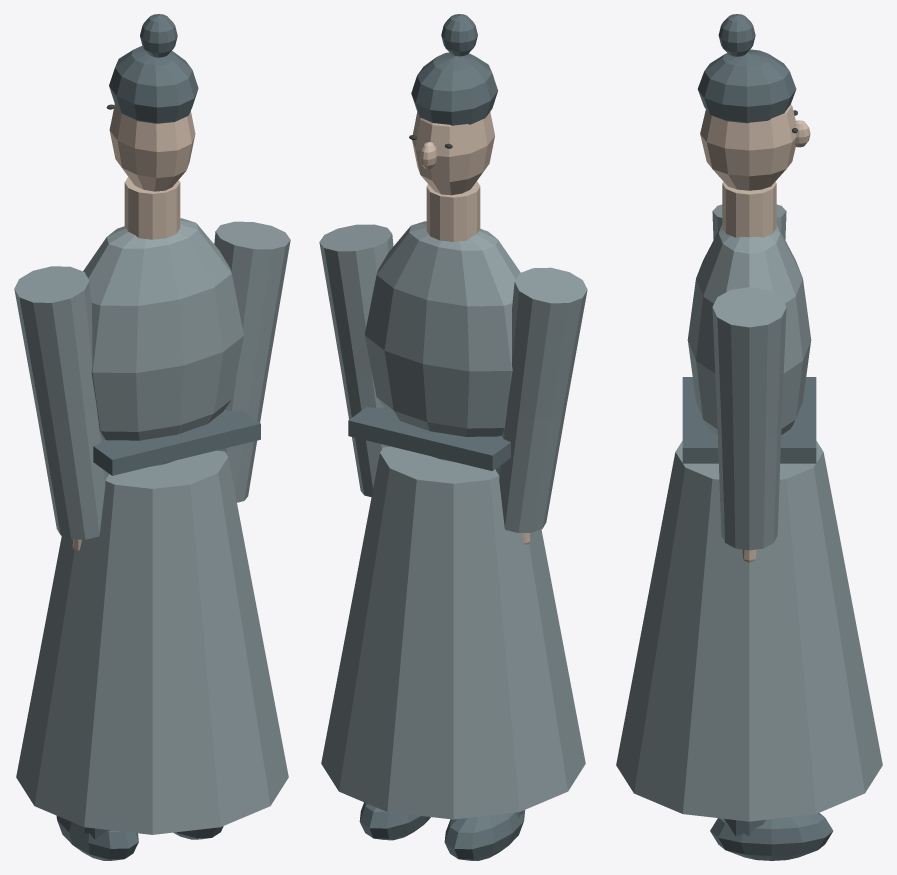
The model's file is CH-XJR.glb.
3 views of the same model, side by side, from view 1: azimuth 30°, elevation 25°; view 2: azimuth 150°, elevation 25°; view 3: azimuth 270°, elevation 25° (orthographic). The views are drawn at different scales.
Visible parts, largest first — view 1: robe_skirt, torso, upper_arm_L, upper_arm_R, sleeve_L, hair, head, belt, neck, sleeve_R, boot_L, hair_bun; view 2: robe_skirt, torso, upper_arm_L, upper_arm_R, sleeve_L, hair, belt, head, boot_L, neck, sleeve_R, boot_R (+1 smaller); view 3: robe_skirt, torso, upper_arm_R, sleeve_R, head, hair, belt, boot_R, neck, hair_bun, upper_arm_L.
Boxes of the visible parts, x1,y1,x2,y2 form: robe_skirt: (16, 450, 288, 834); torso: (83, 218, 243, 466); upper_arm_L: (14, 266, 97, 423); upper_arm_R: (214, 221, 290, 378); sleeve_L: (36, 411, 108, 539); hair: (109, 46, 198, 123); head: (109, 104, 195, 191); belt: (93, 410, 260, 475); neck: (124, 177, 180, 239); sleeve_R: (217, 370, 268, 502); boot_L: (56, 816, 138, 860); hair_bun: (140, 14, 177, 57); robe_skirt: (321, 446, 585, 819); torso: (364, 221, 520, 462); upper_arm_L: (507, 267, 587, 419); upper_arm_R: (319, 224, 393, 376); sleeve_L: (495, 409, 565, 532); hair: (411, 52, 497, 125); belt: (348, 407, 510, 470); head: (412, 112, 494, 195); boot_L: (444, 810, 525, 860); neck: (426, 181, 480, 241); sleeve_R: (341, 369, 390, 497); boot_R: (359, 802, 430, 840); robe_skirt: (616, 441, 882, 821); torso: (687, 224, 811, 434); upper_arm_R: (712, 287, 786, 440); sleeve_R: (717, 424, 781, 550); head: (700, 104, 796, 190); hair: (697, 49, 796, 123); belt: (682, 377, 816, 463); boot_R: (710, 813, 833, 860); neck: (722, 181, 776, 237); hair_bun: (718, 14, 755, 56); upper_arm_L: (712, 204, 786, 239).
Bounding box in the file's own units: 0.6085 × 1.84 × 0.54.
